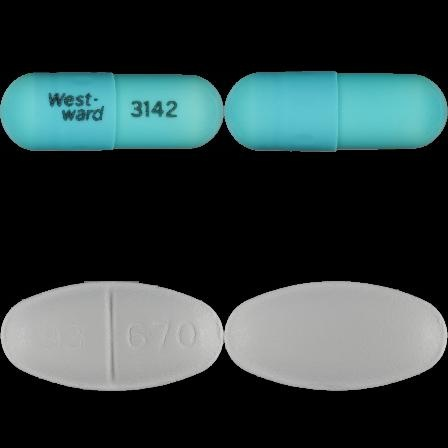53808-0239: (0, 0, 224, 224)
